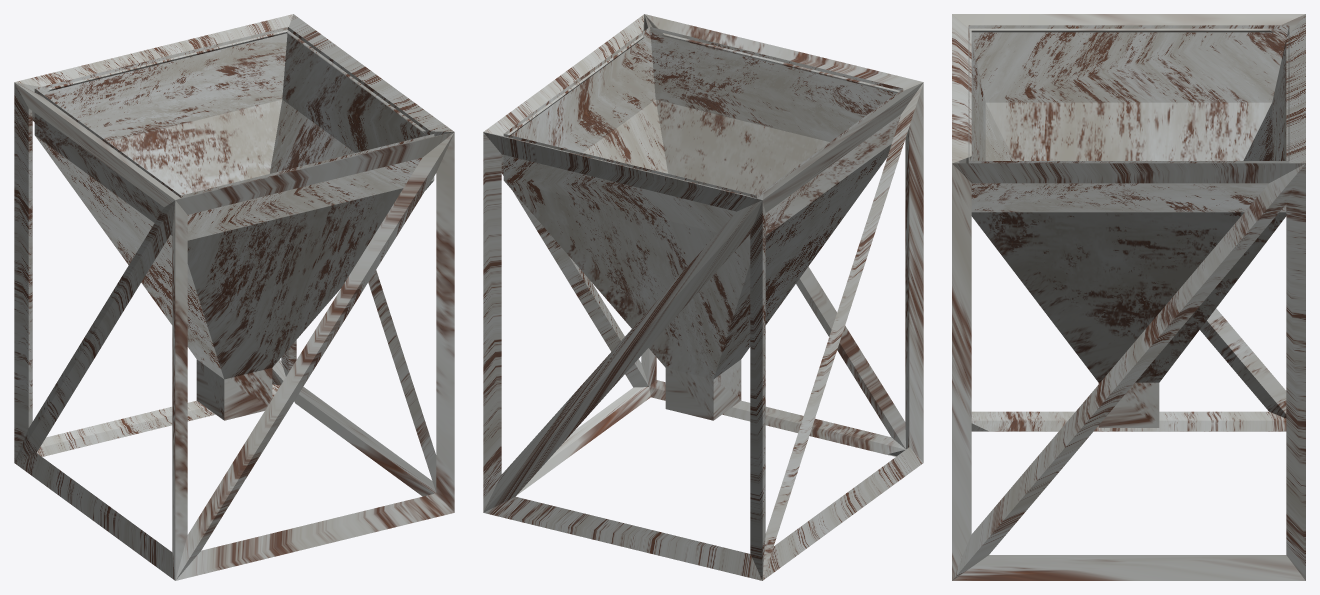
File: hopper.glb
3 views of the same model, side by side, from view 1: azimuth 30°, elevation 25°; view 2: azimuth 150°, elevation 25°; view 3: azimuth 270°, elevation 25° (orthographic). The views are drawn at different scales.
Parts seen in each view (by area): view 1: hopper; view 2: hopper; view 3: hopper.
Boxes of the visible parts, bbox=[...] form: hopper: bbox=[14, 14, 454, 580]; hopper: bbox=[483, 14, 923, 580]; hopper: bbox=[952, 14, 1305, 580].
Size of the model in its own units: 18.45 by 24.03 by 18.45.
1 material, 1 textured.
